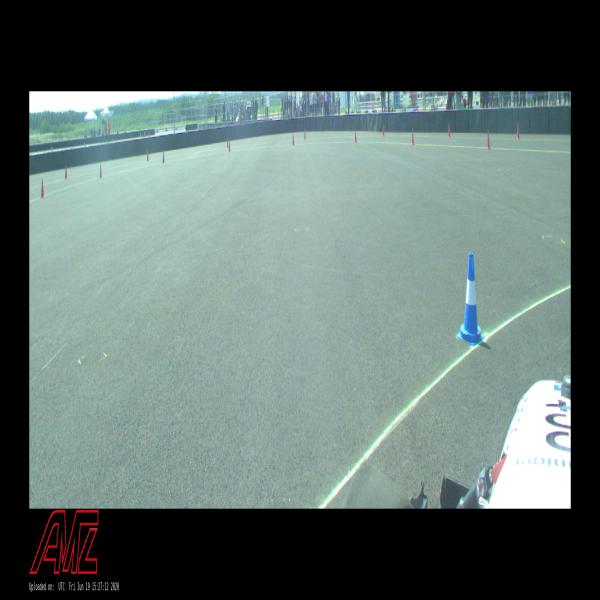blue_cone: (456, 252, 484, 345)
unknown_cone: (41, 179, 44, 198), (487, 130, 490, 148), (517, 122, 519, 140), (412, 130, 414, 145), (100, 163, 102, 178), (448, 123, 450, 137), (65, 165, 67, 179), (304, 128, 306, 140), (355, 131, 357, 142), (147, 149, 149, 160), (227, 137, 229, 148), (293, 132, 294, 145), (163, 151, 164, 163), (383, 124, 384, 136), (229, 141, 230, 152)
